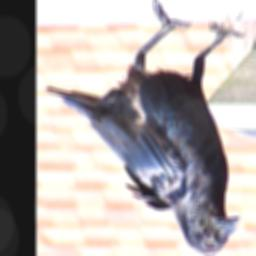Crow: (46, 0, 245, 255)
